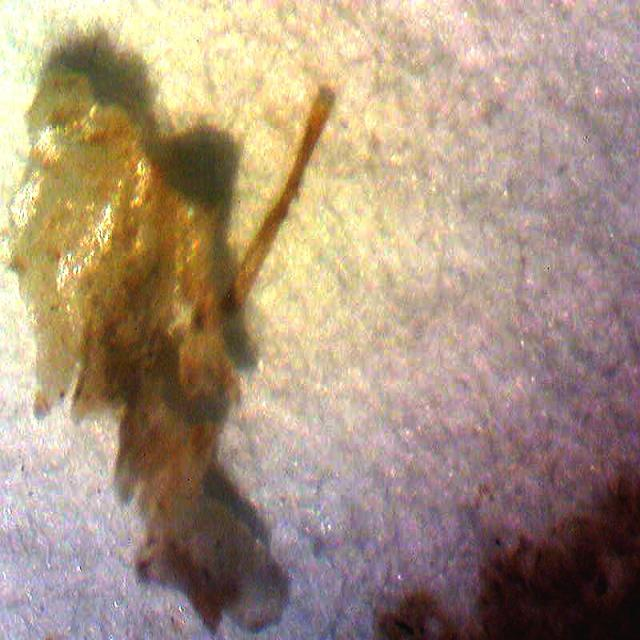microplastic: (5, 68, 295, 635)
